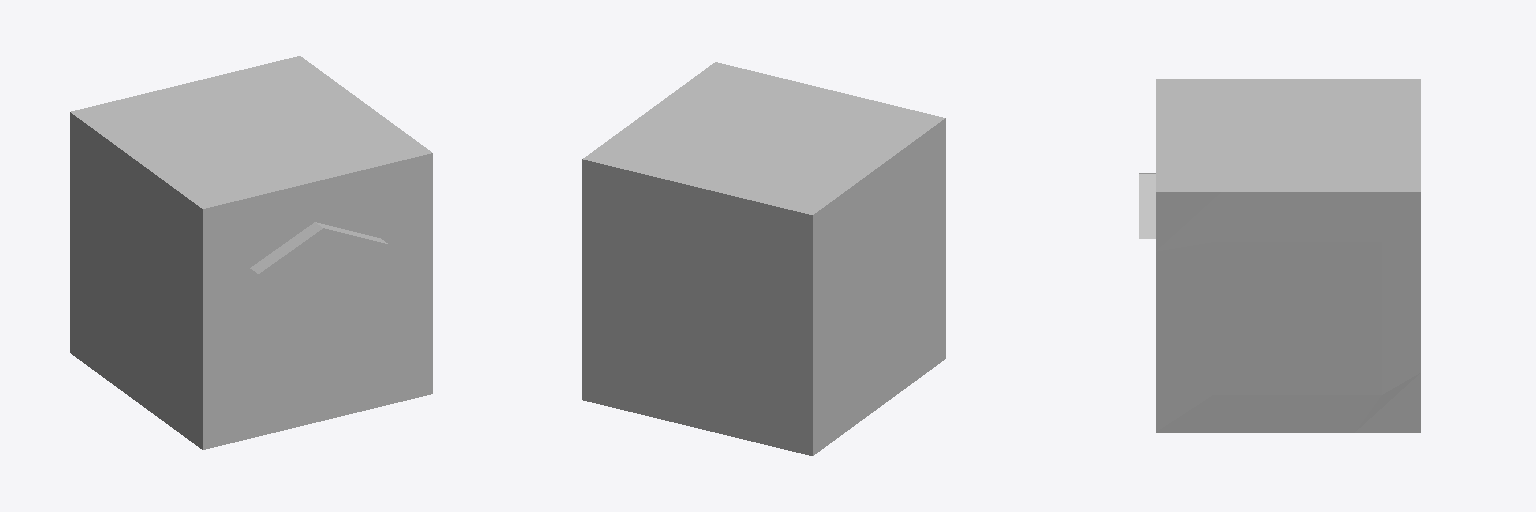
File: redbox.obj
3 renders of one model, left to right at view 1: azimuth 30°, elevation 25°; view 2: azimuth 150°, elevation 25°; view 3: azimuth 270°, elevation 25°, orthographic.
Parts seen in each view (by area): view 1: redbox; view 2: redbox; view 3: redbox.
Boxes of the visible parts, x1,y1,x2,y2 form: redbox: [70, 56, 432, 449]; redbox: [582, 62, 945, 455]; redbox: [1139, 79, 1420, 432].
Size of the model in its own units: 1 by 1 by 1.06.